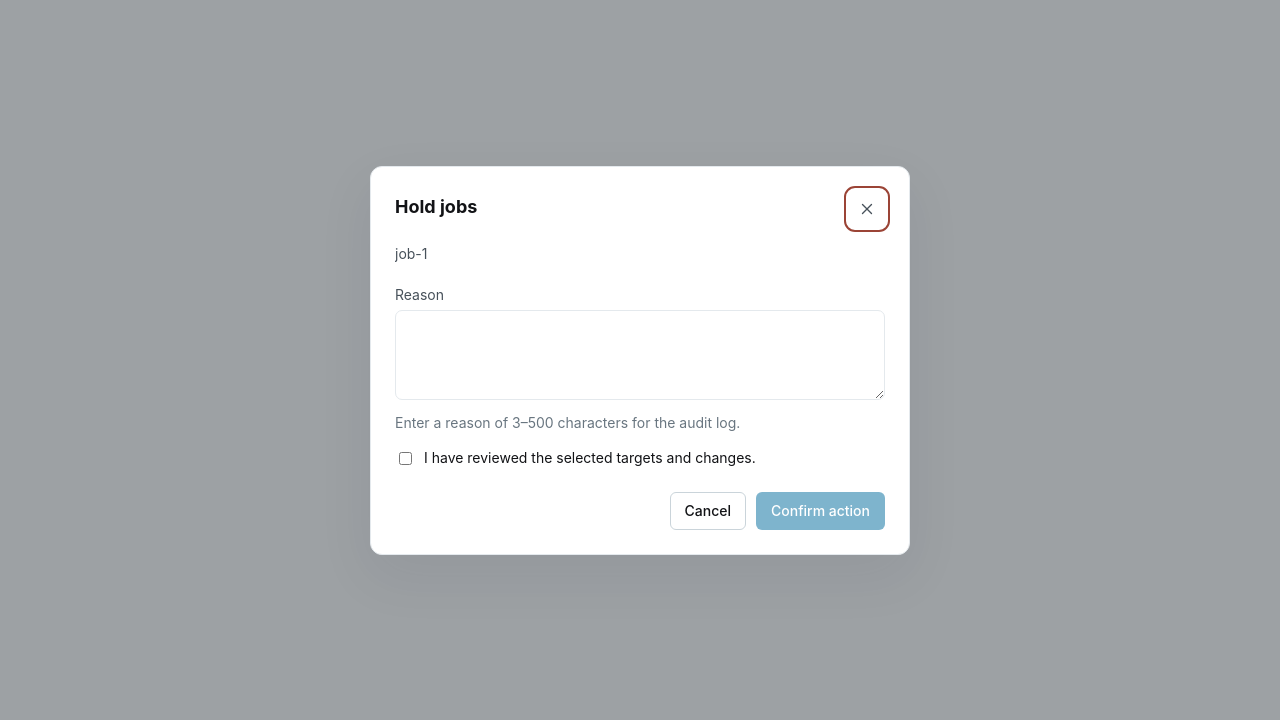
Test case: failed mutation keeps the confirmation and does not show success
Type "maintenance" into the text box labelled "Reason" at (640, 354), box x1=395 y1=310 x2=885 y2=400
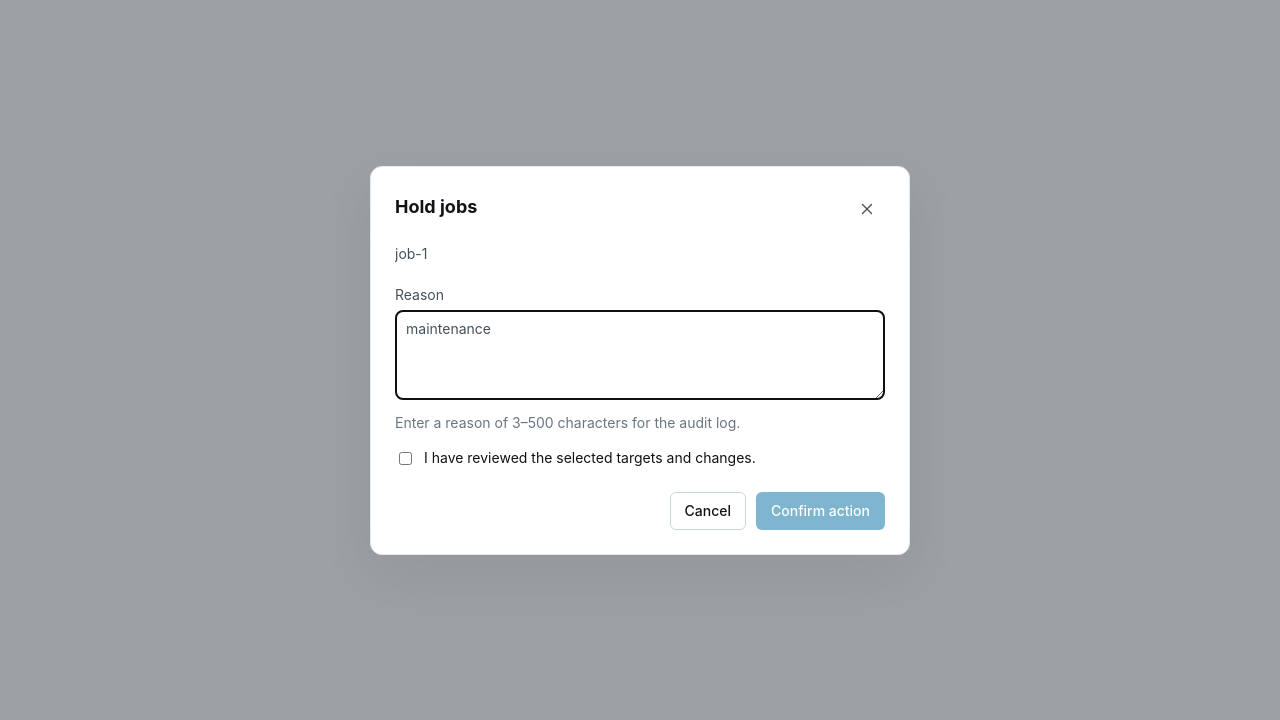
Click the checkbox at (406, 458), box x1=399 y1=452 x2=412 y2=464
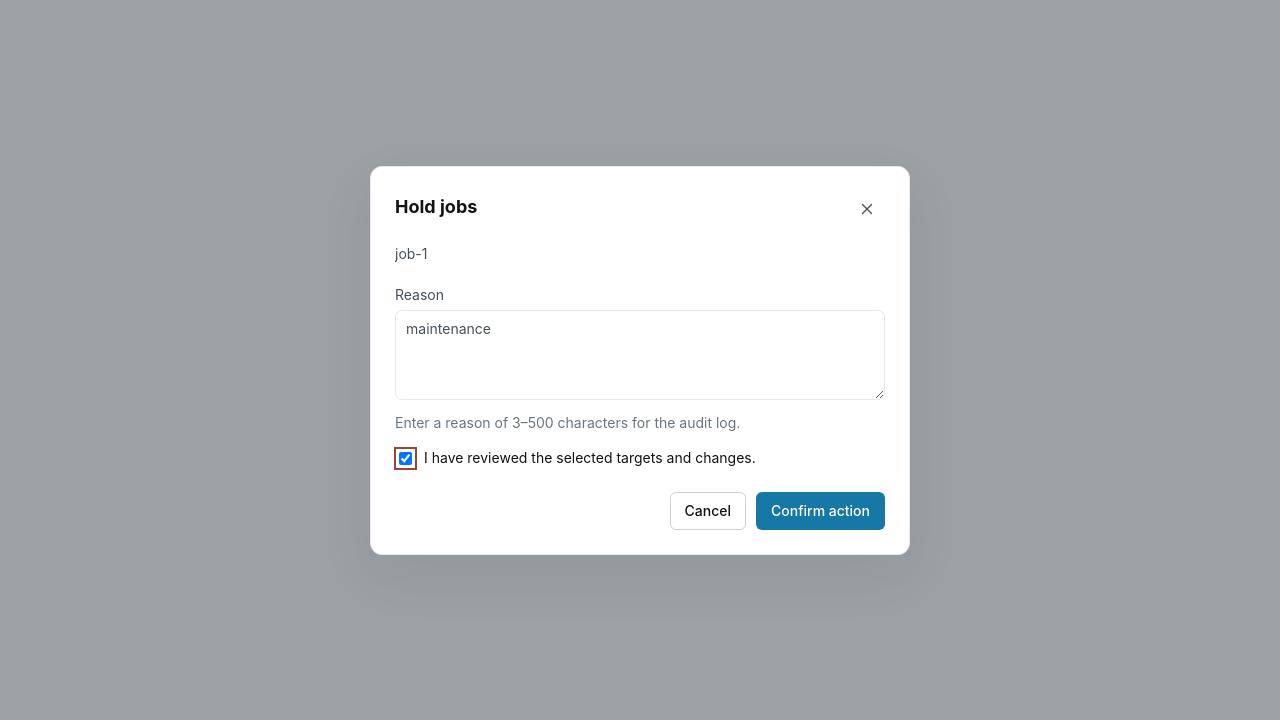
Click the button "Confirm action" at (820, 510), box x1=756 y1=492 x2=885 y2=530
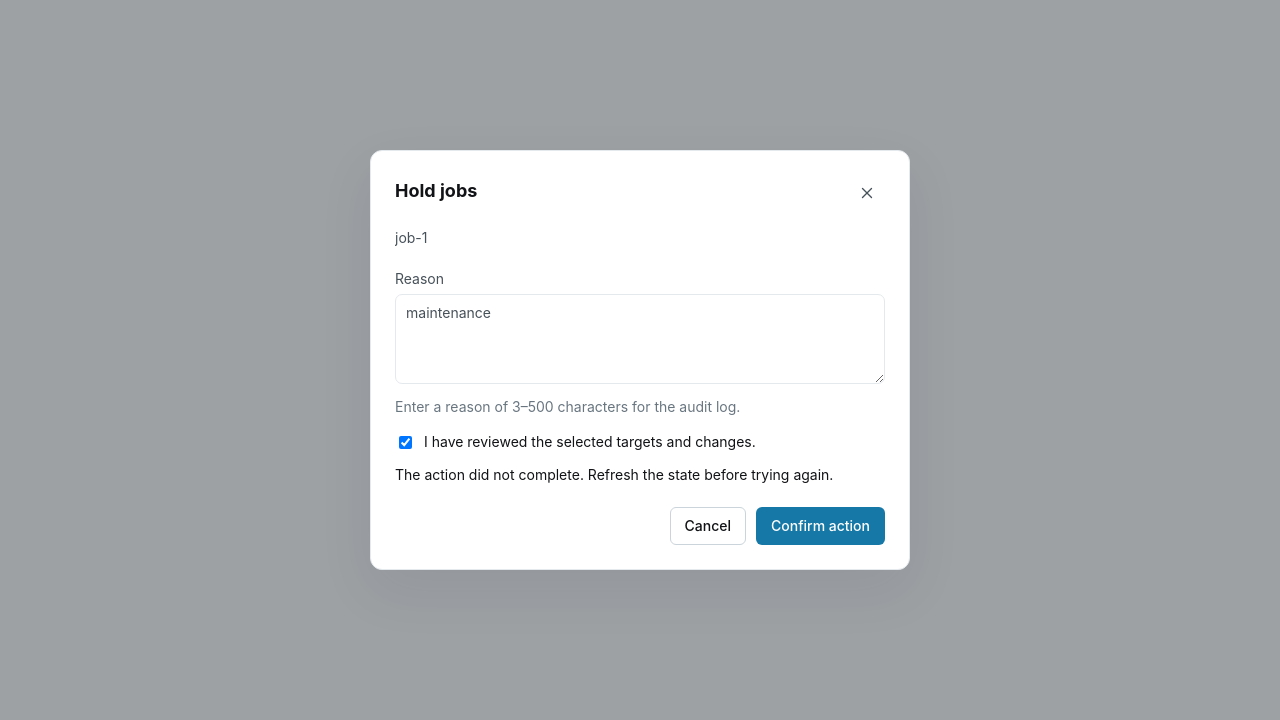
Expected: the dialog is shown, x1=370 y1=150 x2=910 y2=570
Expected: the message shows "The action did not complete", x1=395 y1=466 x2=833 y2=483
